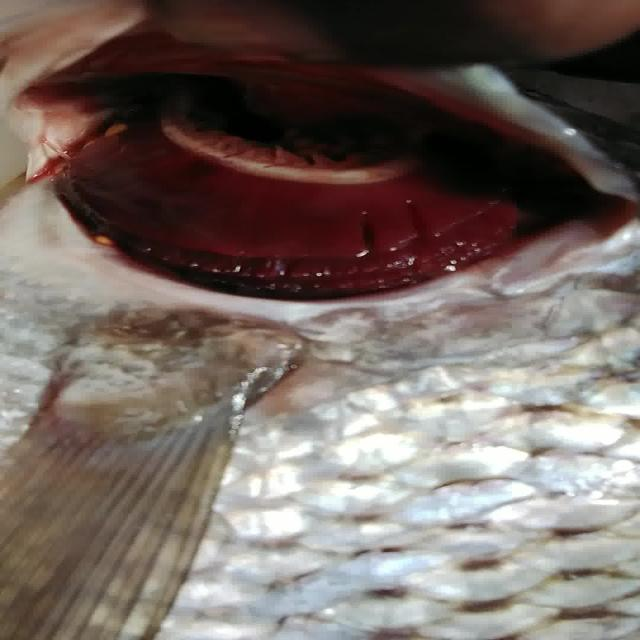Fresh: (49, 78, 598, 304)
